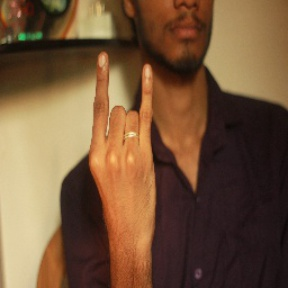V: (85, 48, 162, 231)
